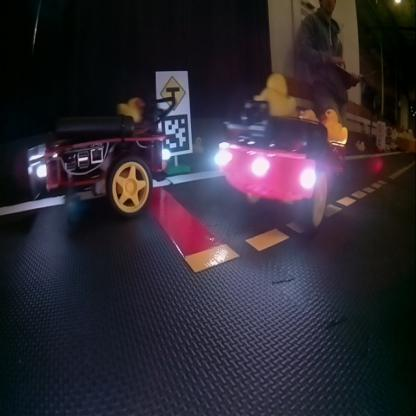Duckie: (254, 72, 296, 116), (323, 108, 347, 143), (118, 96, 144, 122)
Duckiebot: (24, 109, 171, 217), (214, 118, 346, 232)
Intersection sign: (158, 73, 188, 112)
QR code: (160, 113, 188, 152), (385, 136, 391, 144)
Stop sign: (385, 127, 392, 135)
